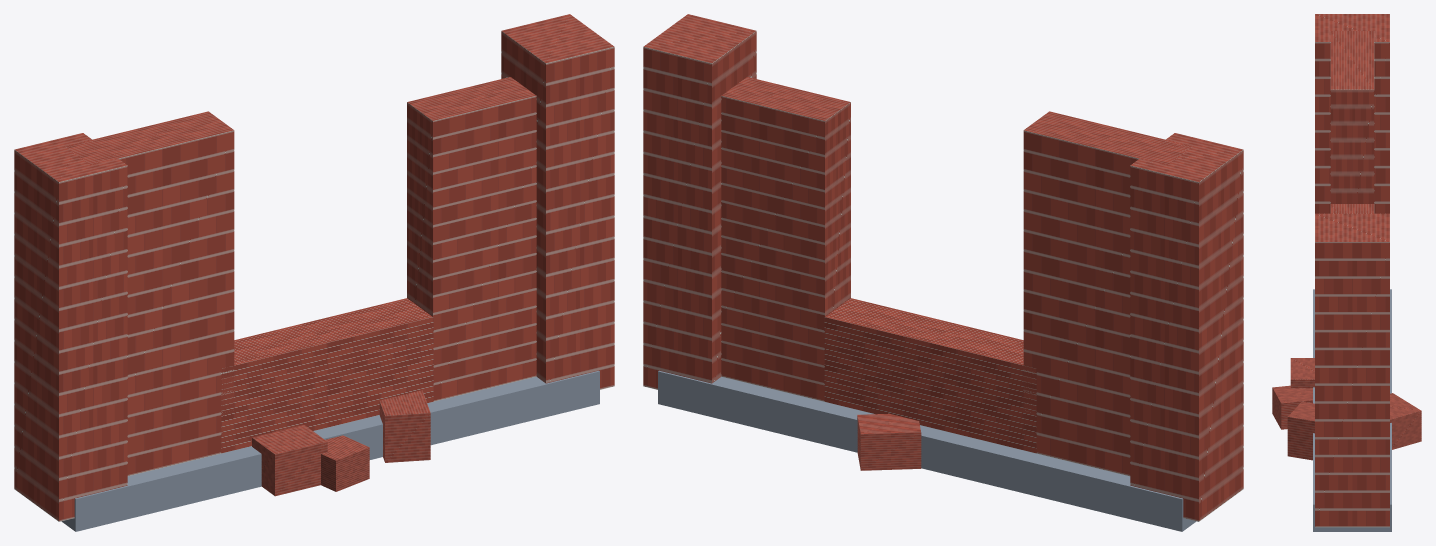
The model's file is wall_brick_broken.glb.
3 renders of one model, left to right at view 1: azimuth 30°, elevation 25°; view 2: azimuth 150°, elevation 25°; view 3: azimuth 270°, elevation 25°, orthographic. The views are drawn at different scales.
Parts seen in each view (by area): view 1: wall_brick_broken; view 2: wall_brick_broken; view 3: wall_brick_broken.
Part boxes in pixels (left/top/right/bottom): wall_brick_broken: left=14, top=14, right=614, bottom=531; wall_brick_broken: left=643, top=14, right=1243, bottom=531; wall_brick_broken: left=1272, top=14, right=1421, bottom=531.
Bounding box in the file's own units: 4.45 × 2.7 × 1.23.
2 materials, 1 textured.
